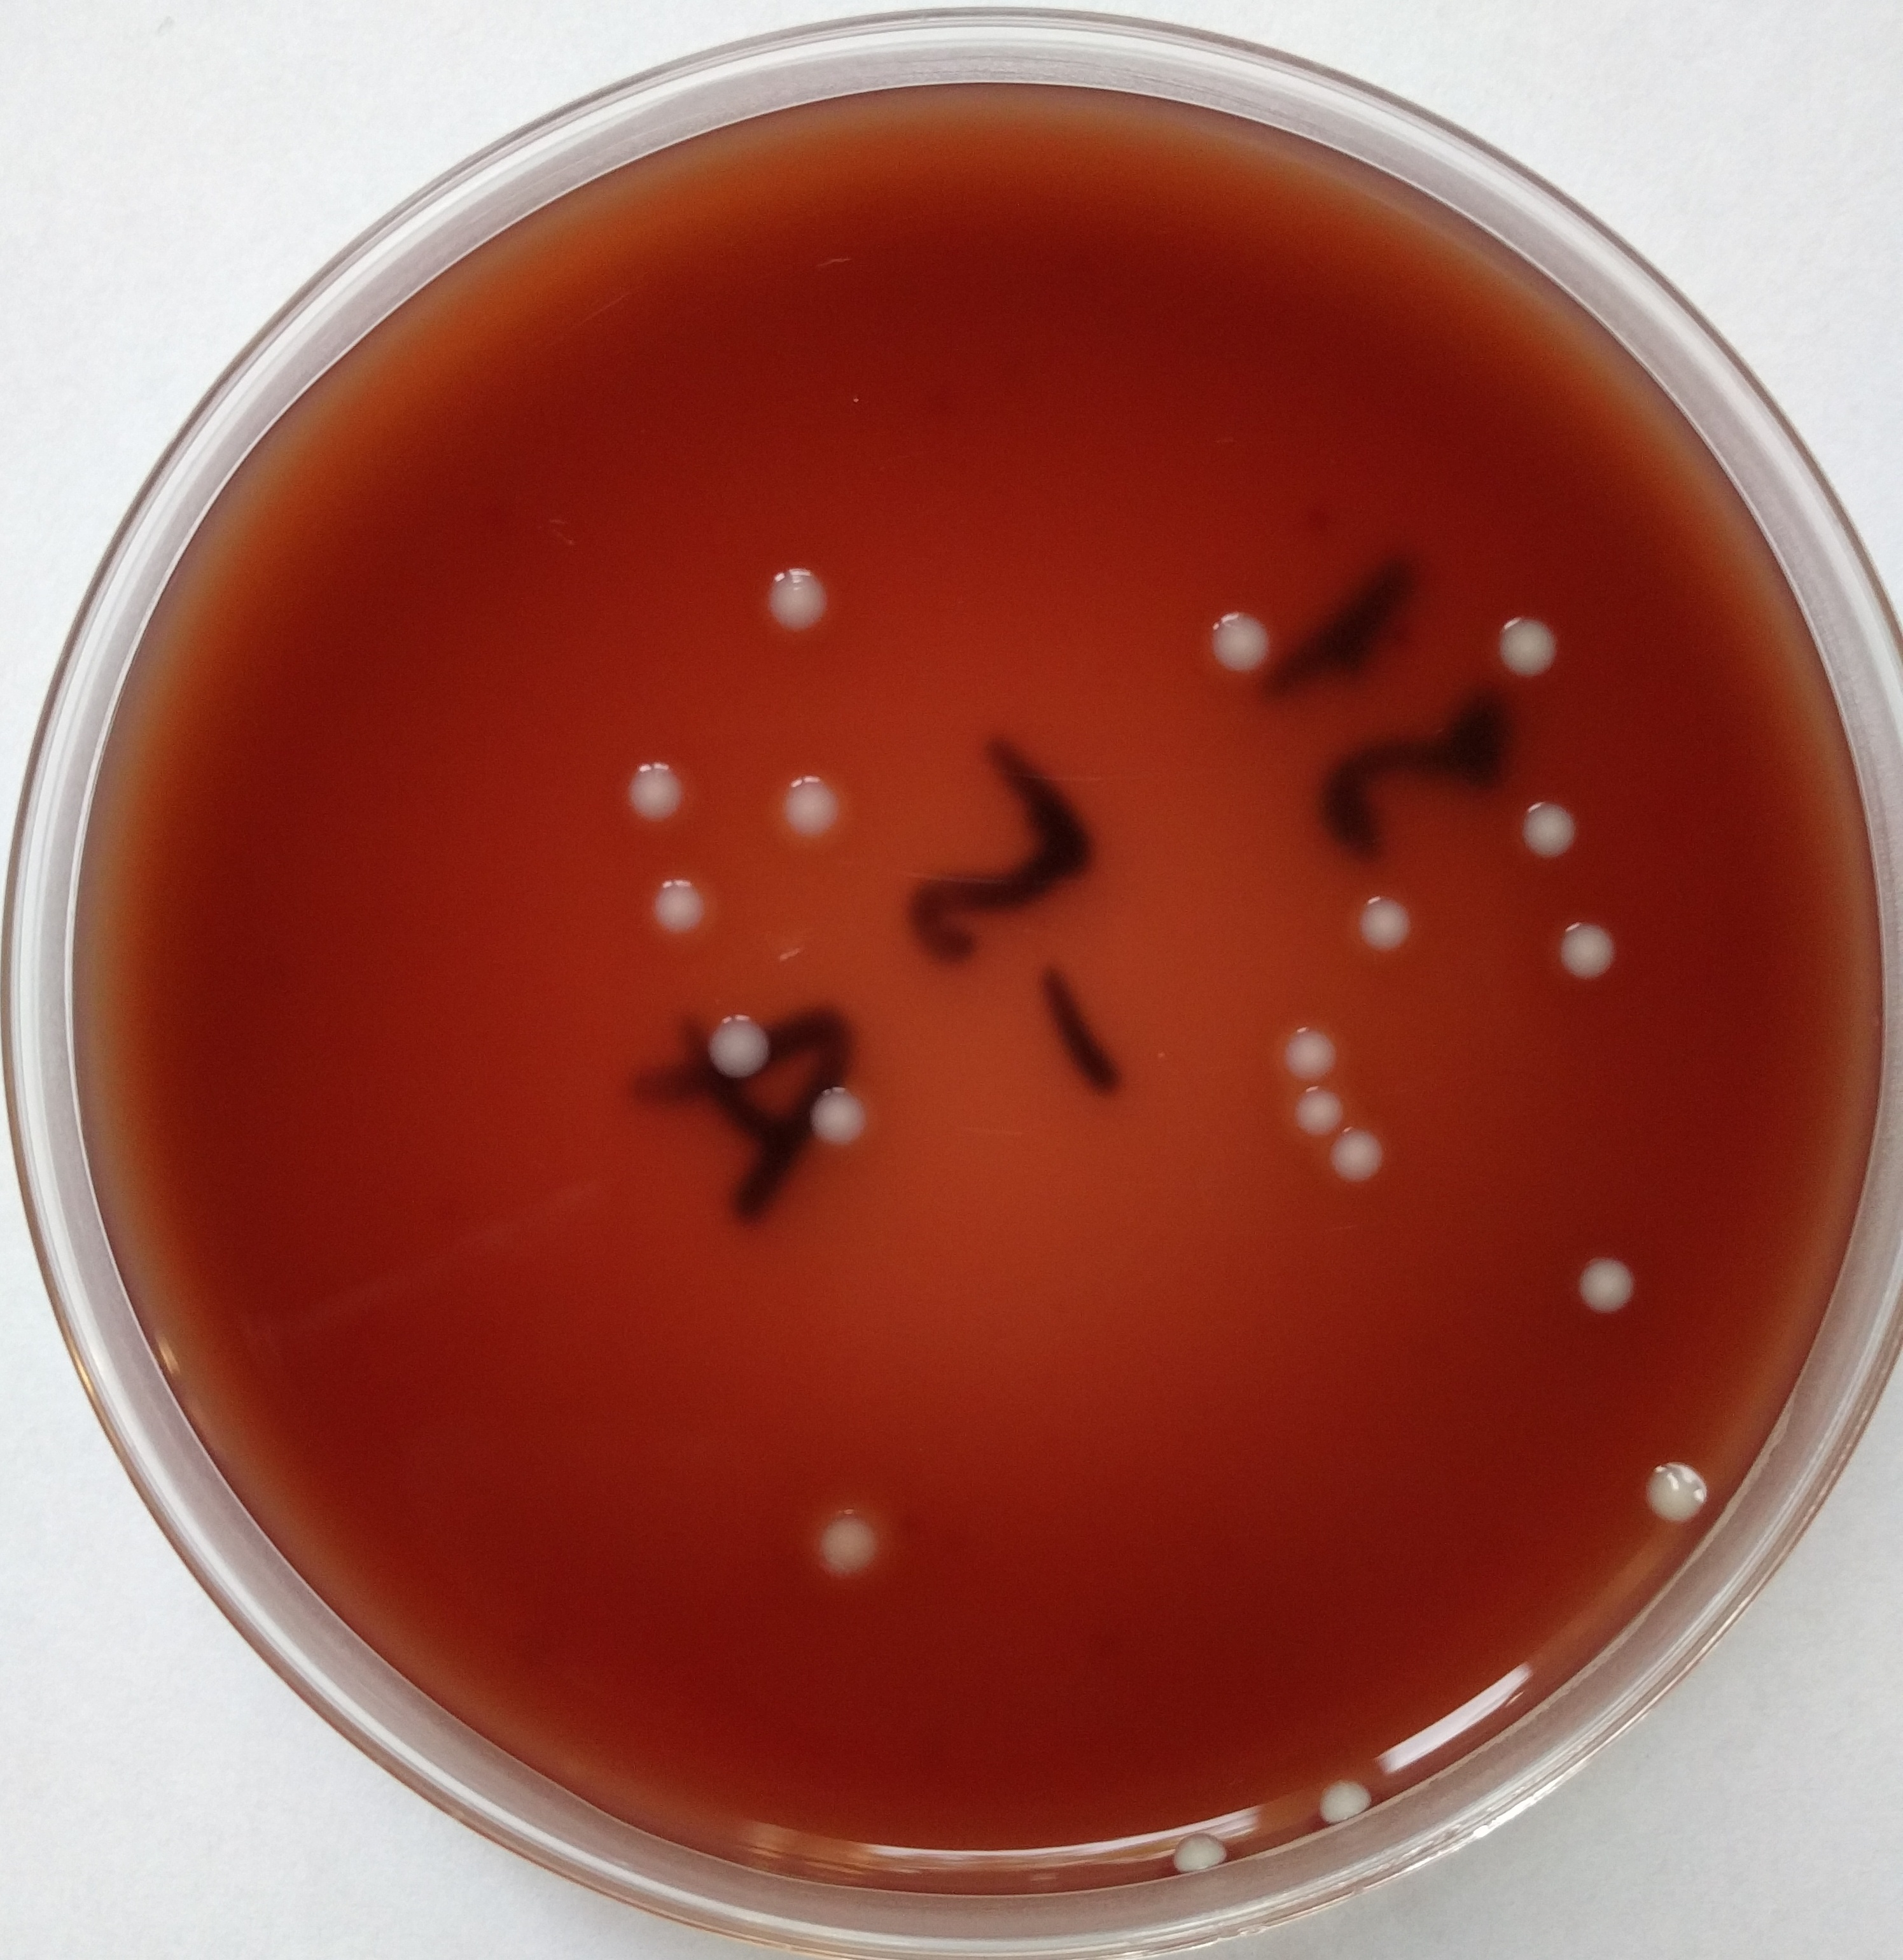sp03: (799, 1501, 897, 1596), (1478, 597, 1576, 686), (799, 1071, 889, 1160), (1504, 789, 1597, 875), (700, 999, 796, 1076), (1634, 1447, 1714, 1536), (602, 735, 691, 815), (771, 759, 859, 840), (754, 551, 834, 639), (1349, 877, 1429, 962), (1198, 604, 1287, 677), (637, 868, 708, 950), (1546, 906, 1618, 983), (1273, 1020, 1359, 1083), (1576, 1246, 1646, 1323), (1317, 1118, 1392, 1188), (1317, 1769, 1378, 1839), (1277, 1073, 1347, 1125), (1172, 1818, 1228, 1878)
